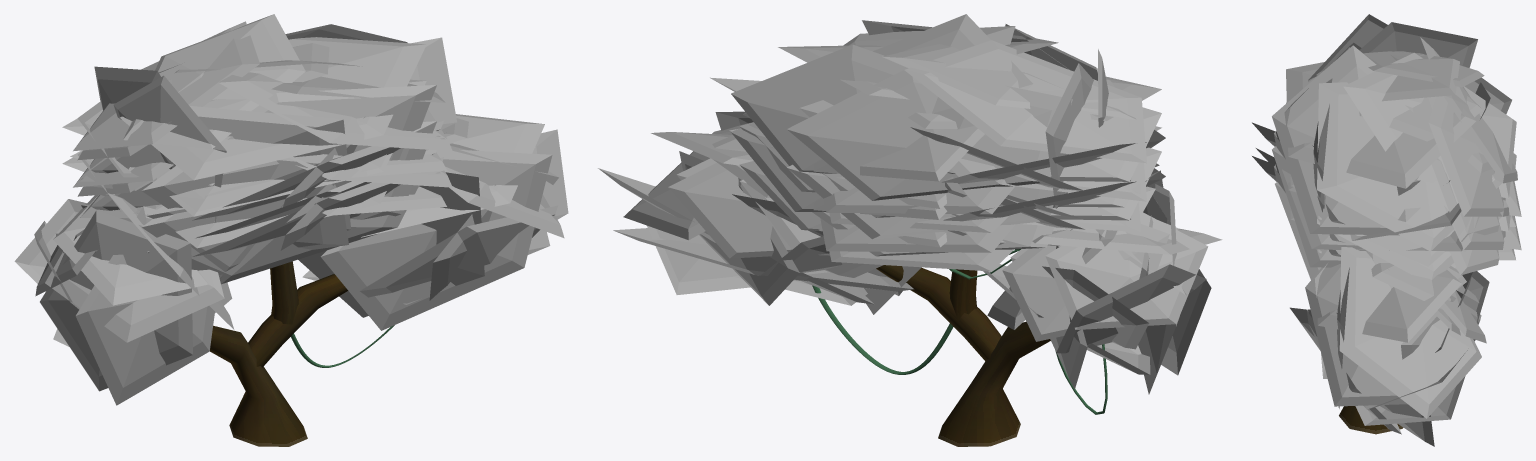
File: john_tree.fbx
The picture shows the model from 3 angles, left to right: view 1: azimuth 30°, elevation 25°; view 2: azimuth 150°, elevation 25°; view 3: azimuth 270°, elevation 25°; orthographic projection. The views are drawn at different scales.
Parts seen in each view (by area): view 1: pasted__sweep3; view 2: pasted__sweep3; view 3: pasted__sweep3.
Part boxes in pixels (bbox=[...]): pasted__sweep3: bbox=[14, 14, 568, 446]; pasted__sweep3: bbox=[598, 14, 1222, 446]; pasted__sweep3: bbox=[1252, 14, 1521, 446].
Size of the model in its own units: 21.2 by 14.73 by 10.13.
Materials: 10 (4 with a texture image).
